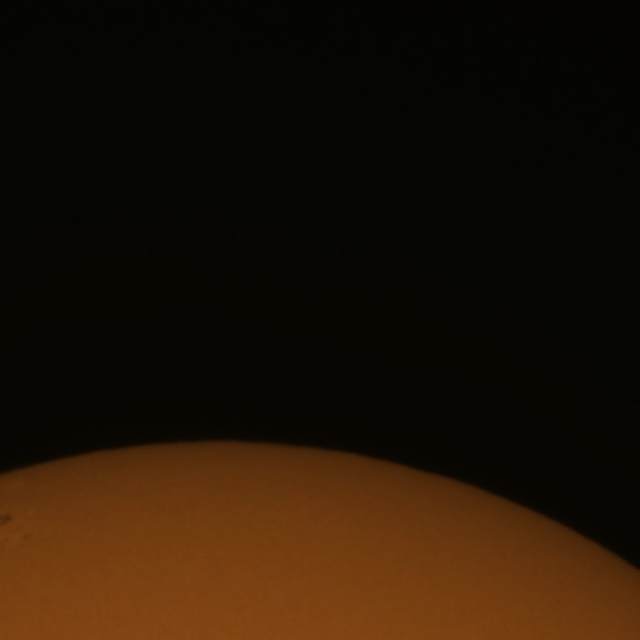sunspot: (0, 511, 13, 528)
